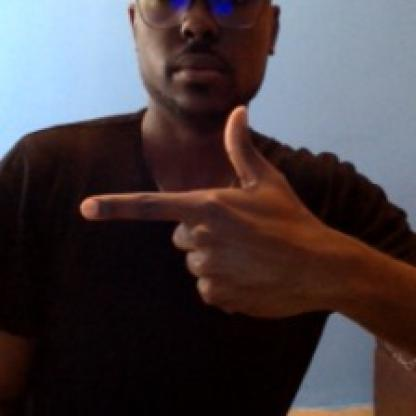TURN RIGHT: (74, 181, 353, 337)
